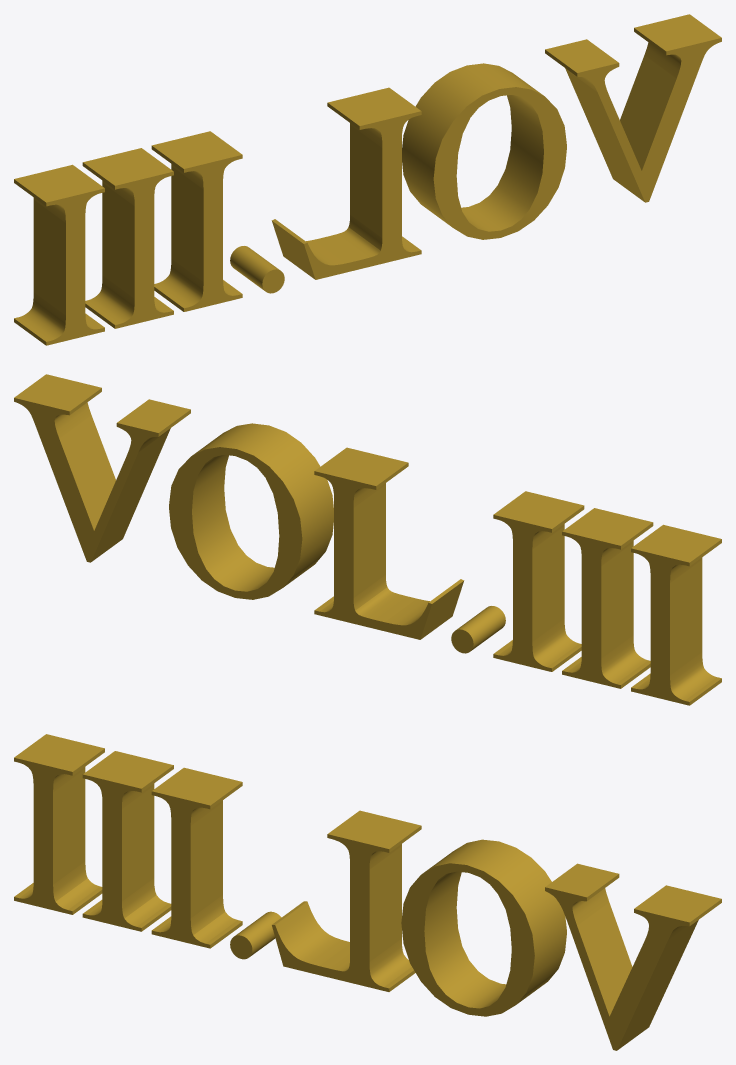
File: inscription_vol3.FBX
3 renders of one model, top to bottom at view 1: azimuth 30°, elevation 25°; view 2: azimuth 150°, elevation 25°; view 3: azimuth 330°, elevation 25°, orthographic.
Parts seen in each view (by area): view 1: VOL3_sign; view 2: VOL3_sign; view 3: VOL3_sign.
Part boxes in pixels (<box>): VOL3_sign: <box>14,14,721,345</box>; VOL3_sign: <box>14,374,721,705</box>; VOL3_sign: <box>14,734,721,1050</box>.
Size of the model in its own units: 6.04 by 1.28 by 0.5.
